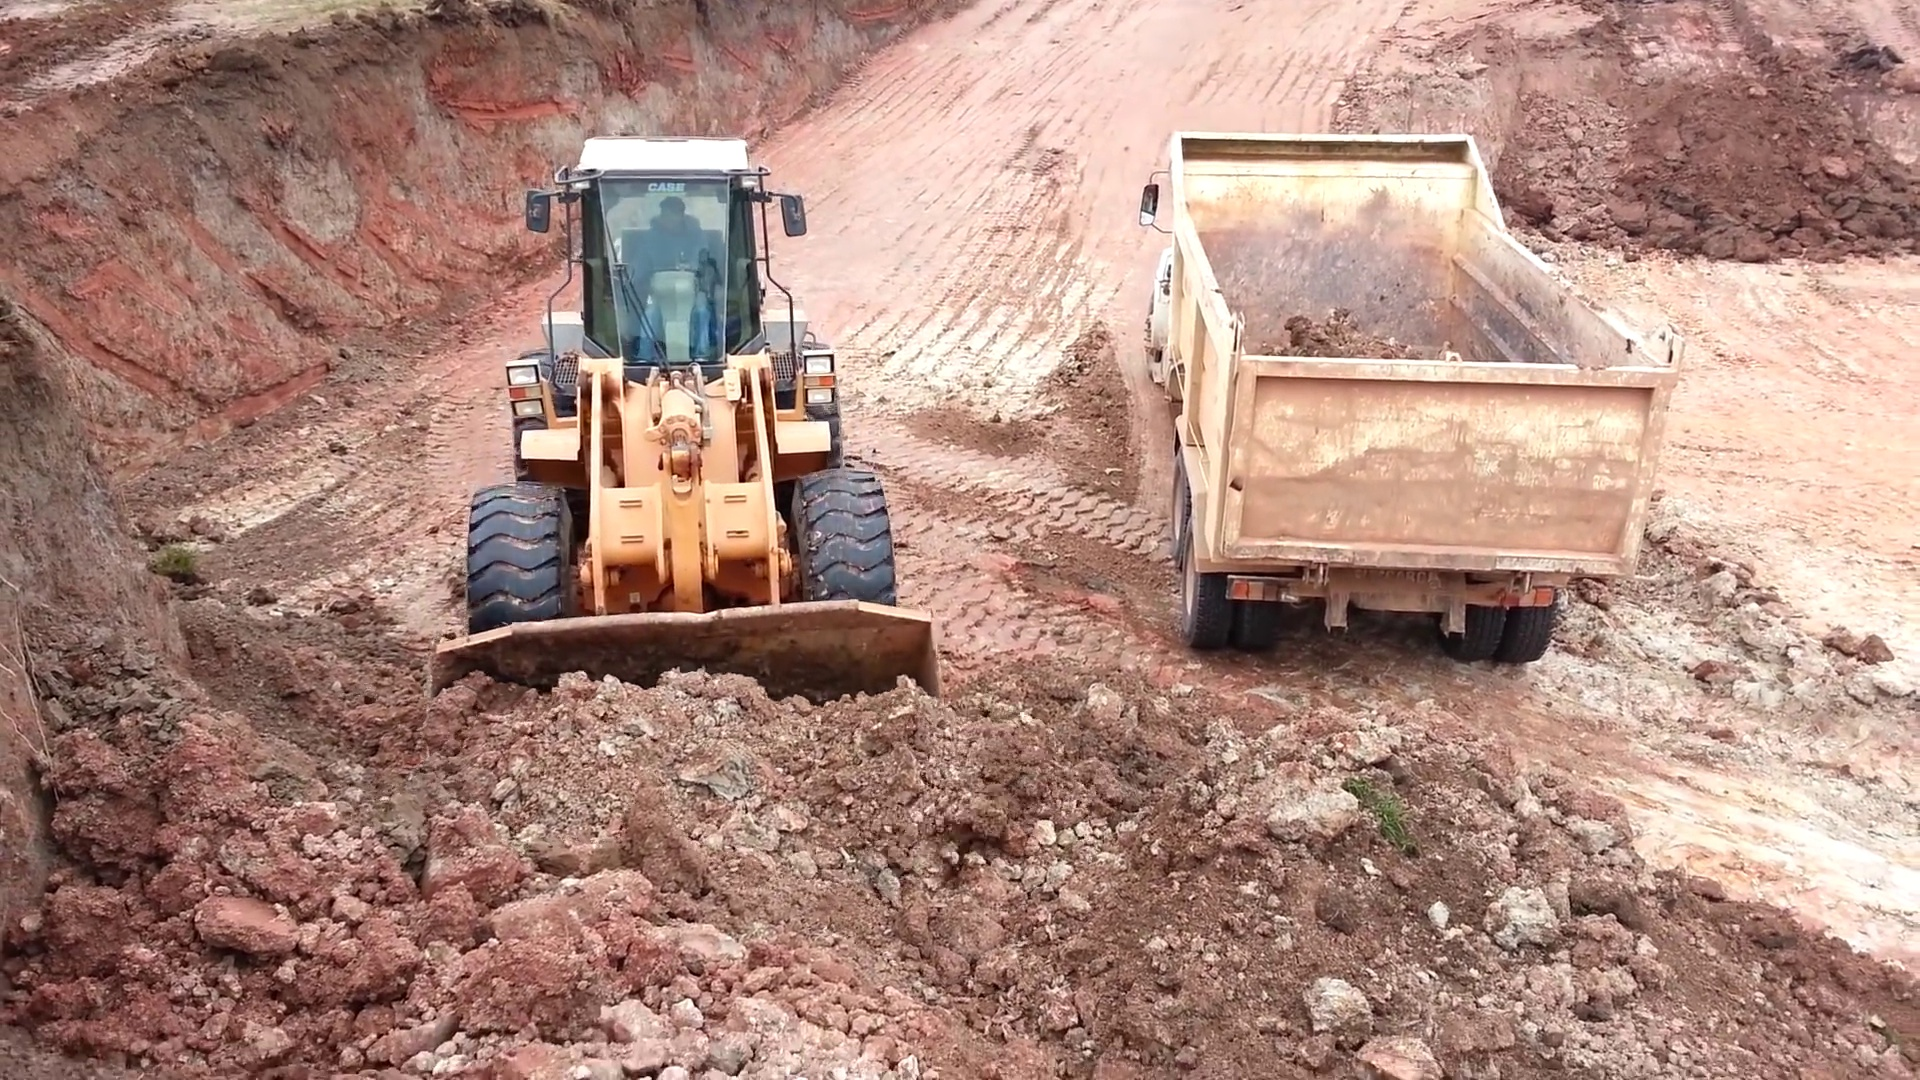dumper: (1131, 117, 1683, 659)
wheel loader: (429, 132, 959, 800)
